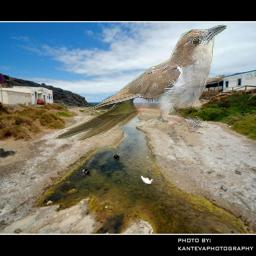Cuckoo: (53, 24, 227, 141)
